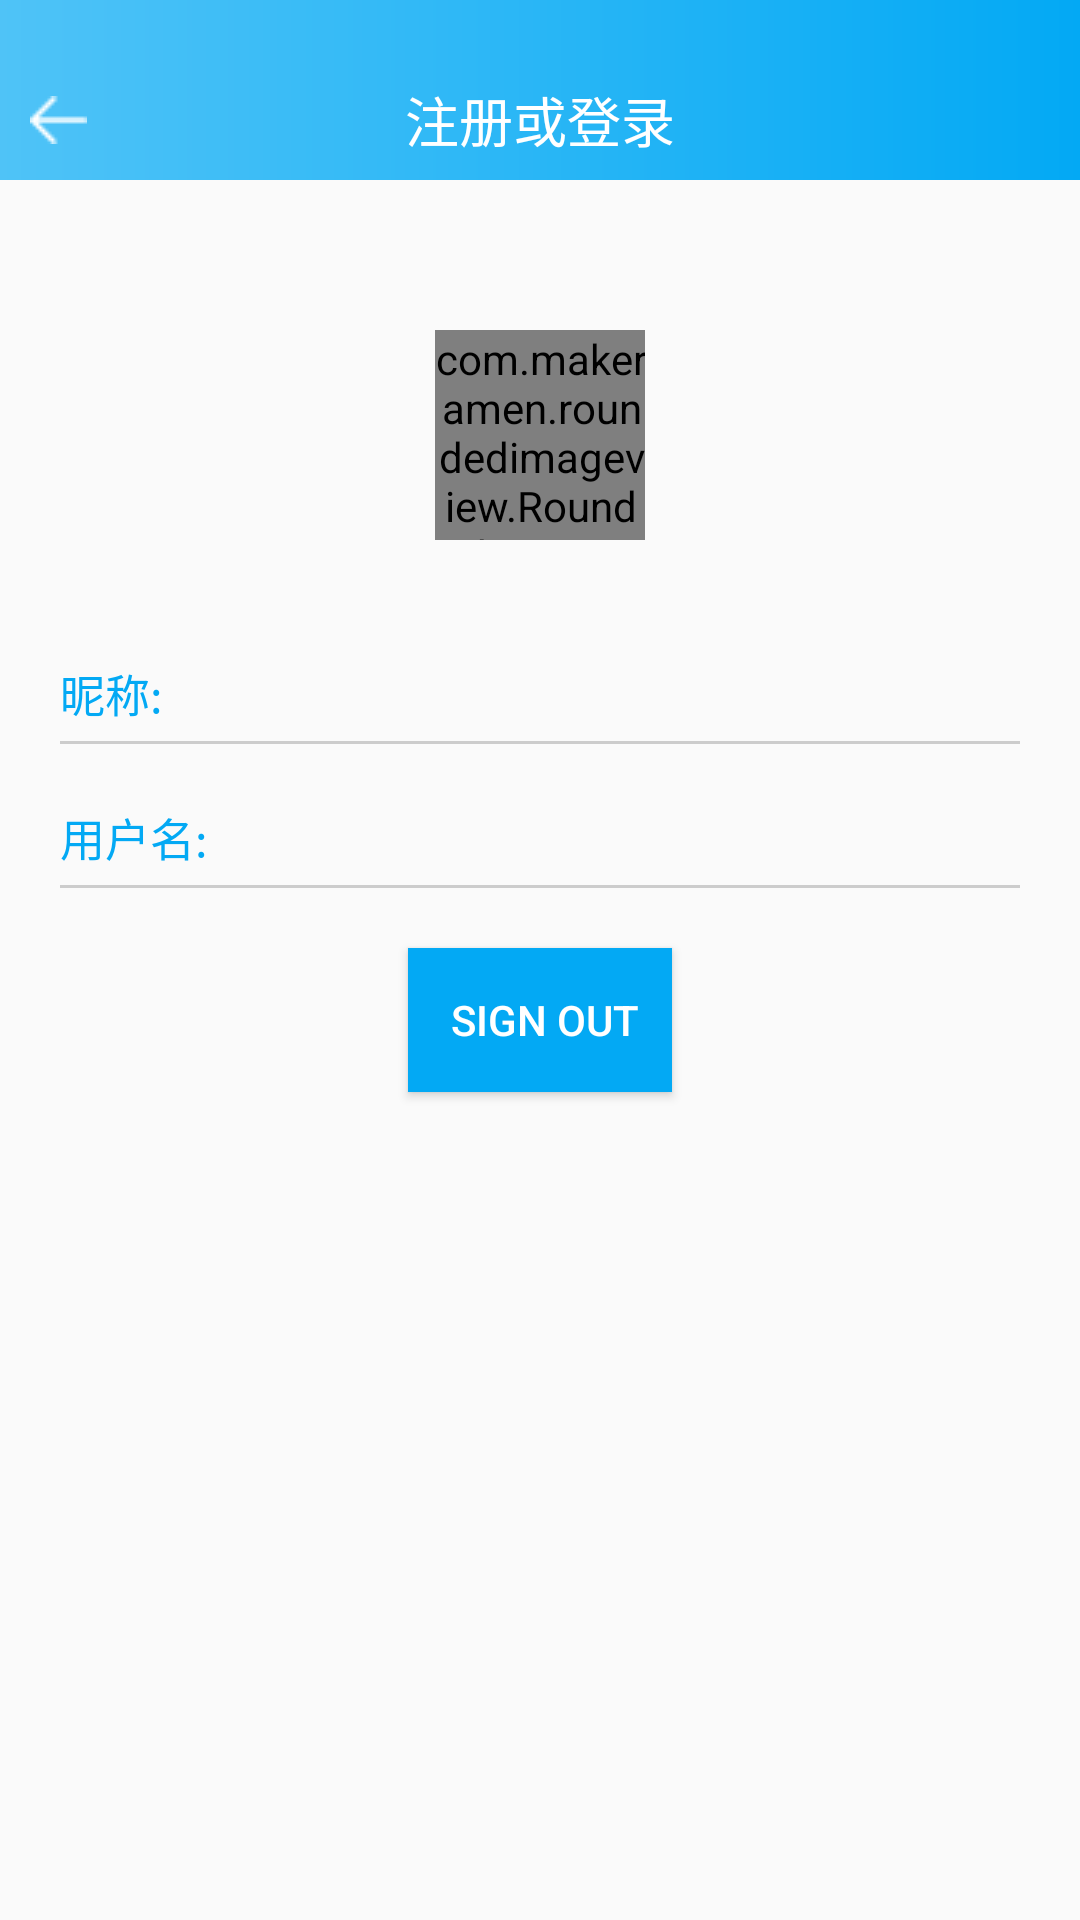

Point at icon controls on the screen. Image size 1080px×1920px, points as (x=x, y=y).
back: (x=58, y=120)
